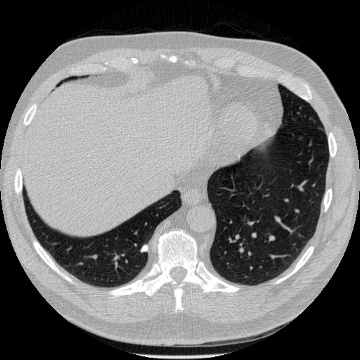PN: (140, 244, 148, 252)
